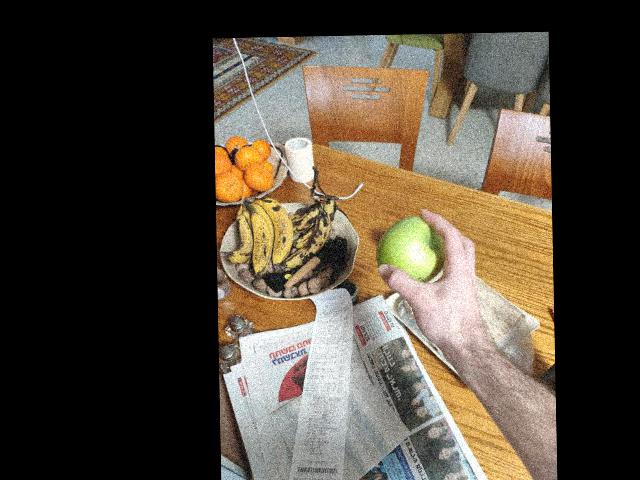apple: (377, 210, 449, 290)
